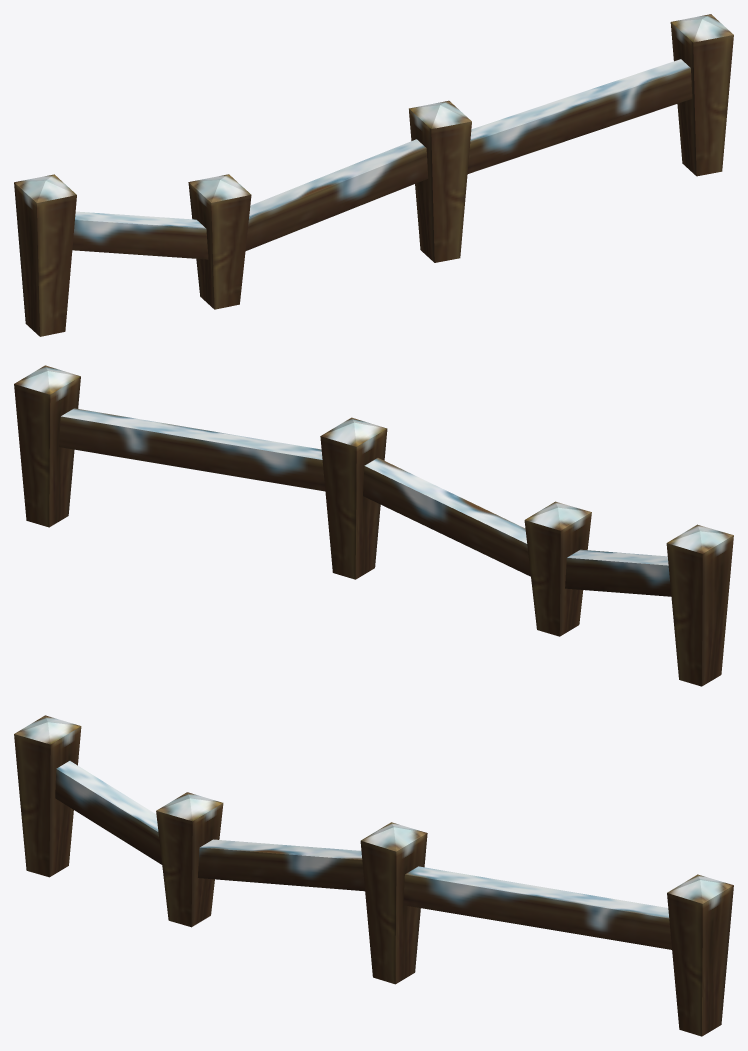
Rendered from LanGan01.FBX.
3 views of the same model, one above another, from view 1: azimuth 30°, elevation 25°; view 2: azimuth 150°, elevation 25°; view 3: azimuth 330°, elevation 25° (orthographic).
Parts seen in each view (by area): view 1: LanGan01; view 2: LanGan01; view 3: LanGan01.
Boxes of the visible parts, x1,y1,x2,y2 form: LanGan01: (14, 14, 733, 336); LanGan01: (14, 365, 733, 686); LanGan01: (14, 715, 733, 1036).
Bounding box in the file's own units: 158 × 32.18 × 20.52.
